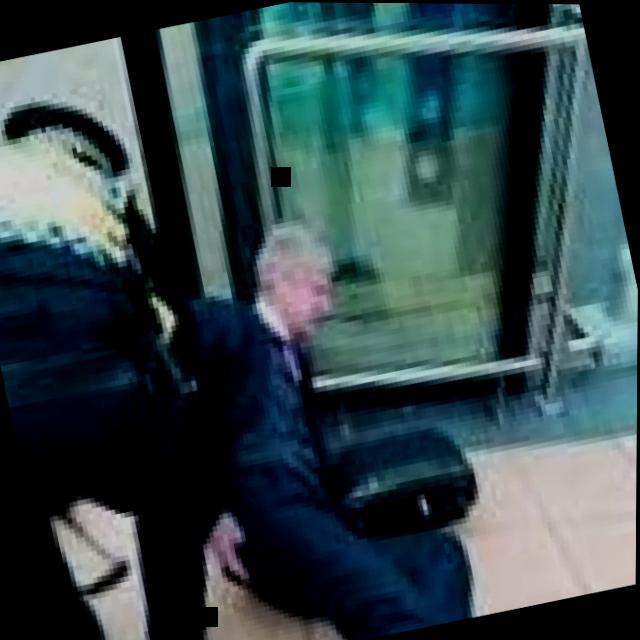Fall-Detected: (135, 163, 548, 640)
